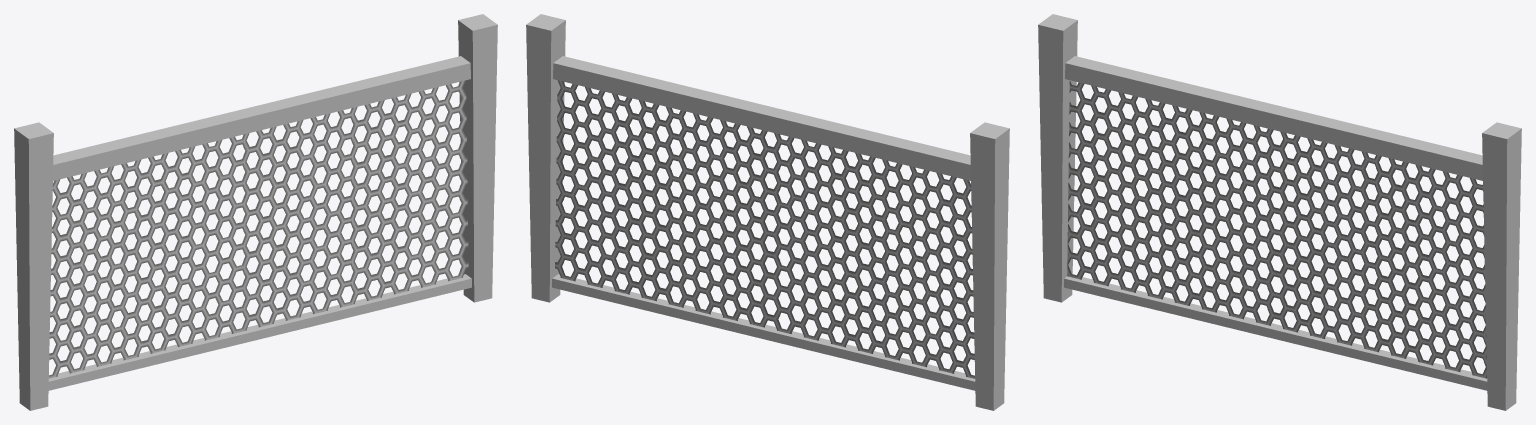
Rendered from Wire_Mesh.fbx.
3 views of the same model, side by side, from view 1: azimuth 30°, elevation 25°; view 2: azimuth 150°, elevation 25°; view 3: azimuth 330°, elevation 25° (orthographic).
Parts seen in each view (by area): view 1: Wire, Block2, Block, Block1, Block3; view 2: Wire, Block2, Block, Block1, Block3; view 3: Wire, Block2, Block1, Block, Block3.
Boxes of the visible parts, left/top/right/bottom form: Wire: left=48, top=80, right=468, bottom=378; Block2: left=53, top=56, right=470, bottom=180; Block: left=14, top=122, right=53, bottom=410; Block1: left=458, top=14, right=497, bottom=302; Block3: left=48, top=274, right=471, bottom=390; Wire: left=555, top=80, right=975, bottom=378; Block2: left=553, top=56, right=970, bottom=180; Block: left=970, top=122, right=1009, bottom=410; Block1: left=526, top=14, right=565, bottom=302; Block3: left=552, top=274, right=975, bottom=390; Wire: left=1067, top=81, right=1486, bottom=378; Block2: left=1065, top=56, right=1482, bottom=180; Block1: left=1482, top=122, right=1521, bottom=410; Block: left=1038, top=14, right=1077, bottom=302; Block3: left=1064, top=276, right=1487, bottom=390.
Bounding box in the file's own units: 462 × 258 × 25.08.
